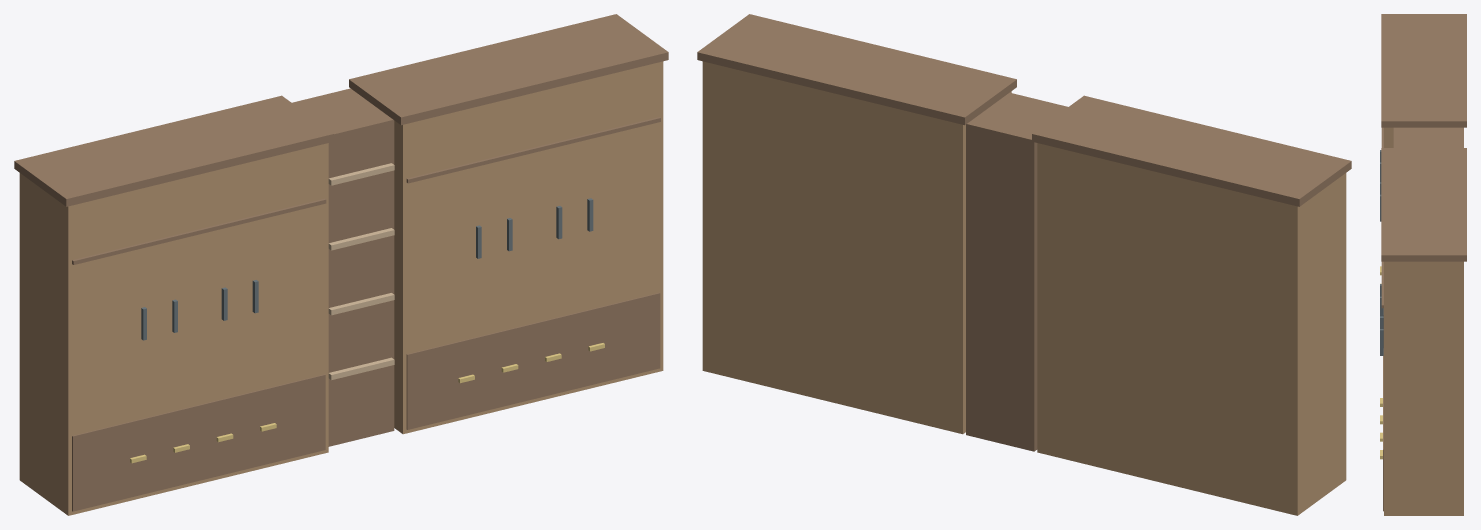
File: Cabinet.glb
The picture shows the model from 3 angles, left to right: view 1: azimuth 30°, elevation 25°; view 2: azimuth 150°, elevation 25°; view 3: azimuth 270°, elevation 25°; orthographic projection. The views are drawn at different scales.
Visible parts, largest first — view 1: Cabinet; view 2: Cabinet; view 3: Cabinet.
Boxes of the visible parts, bbox=[...] form: Cabinet: bbox=[14, 14, 668, 515]; Cabinet: bbox=[697, 14, 1351, 515]; Cabinet: bbox=[1380, 14, 1466, 515].
Size of the model in its own units: 4.86 by 2.46 by 0.74.
